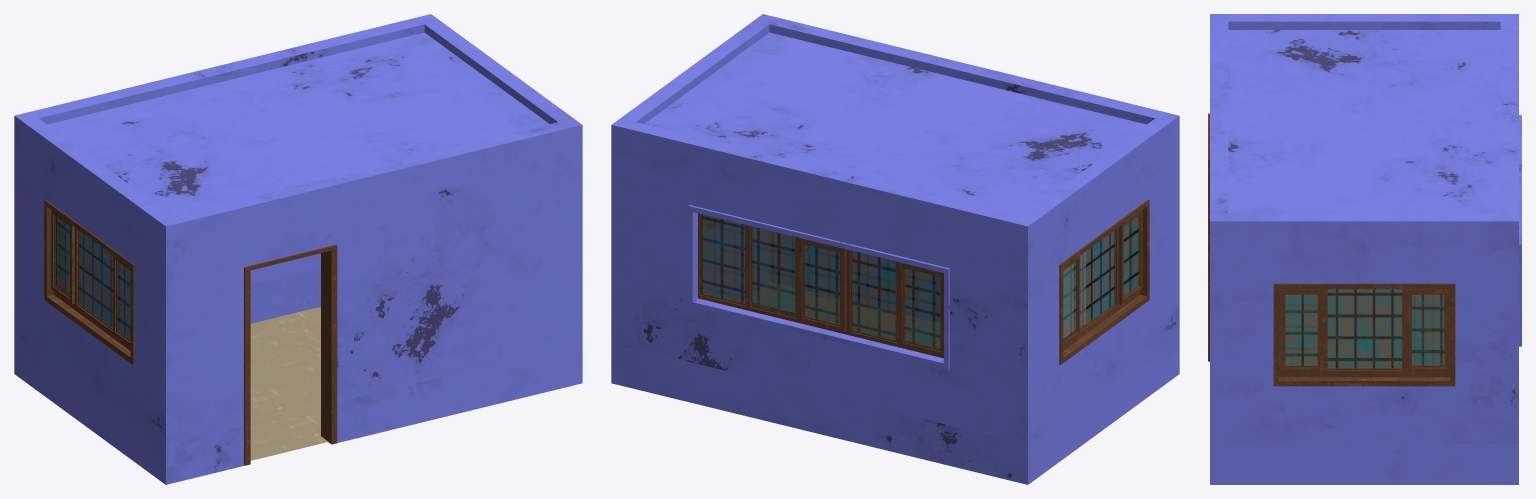
The model's file is CasaAbandonadaTriangulate.fbx.
3 renders of one model, left to right at view 1: azimuth 30°, elevation 25°; view 2: azimuth 150°, elevation 25°; view 3: azimuth 270°, elevation 25°, orthographic.
Parts seen in each view (by area): view 1: Casa, Chao, Janelas; view 2: Casa, Janelas, Chao; view 3: Casa, Janelas, Chao.
Boxes of the visible parts, x1,y1,x2,y2 form: Casa: (14,14,582,484); Chao: (250,306,328,460); Janelas: (51,210,130,350); Casa: (611,14,1179,484); Janelas: (698,210,1142,358); Chao: (753,285,939,346); Casa: (1208,14,1521,484); Janelas: (1278,289,1450,377); Chao: (1286,289,1443,367).
Bounding box in the file's own units: 544 × 320 × 345.
